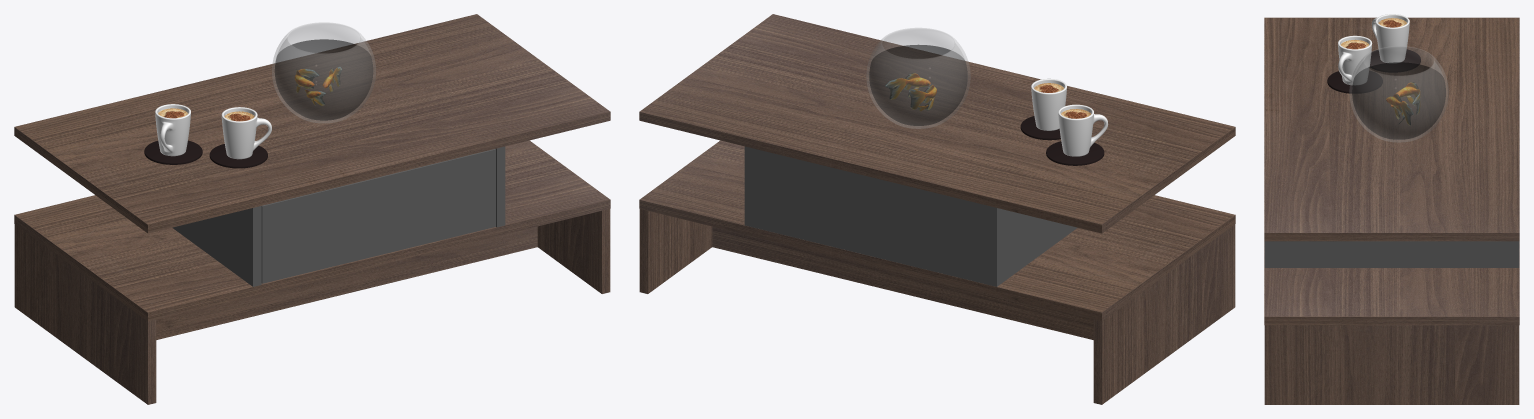
File: center_tables.glb
3 renders of one model, left to right at view 1: azimuth 30°, elevation 25°; view 2: azimuth 150°, elevation 25°; view 3: azimuth 270°, elevation 25°, orthographic. The views are drawn at different scales.
Parts seen in each view (by area): view 1: Box116, Box213, Box118, Box120, Box122, xiadele_BOWL AQUARIAM_xiadele_20 - Default_0, xiadele_BOWL AQUARIAM_xiadele_20 - Dewefault_0, Rectangle1037, Rectangle1042, Box119, Box121, xiadele_TEA CUP_xiadele_16 - Default_0 (+5 smaller); view 2: Box116, Box124, Box118, Box120, Box122, xiadele_BOWL AQUARIAM_xiadele_20 - Default_0, xiadele_BOWL AQUARIAM_xiadele_20 - Dewefault_0, Rectangle1037, Rectangle1042, Box119, Box121, xiadele_TEA CUP001_xiadele_16 - Default_0 (+5 smaller); view 3: Box116, Box119, Box118, xiadele_BOWL AQUARIAM_xiadele_20 - Default_0, Box117, xiadele_BOWL AQUARIAM_xiadele_20 - Dewefault_0, Rectangle1037, Rectangle1042, xiadele_TEA CUP001_xiadele_16 - Default_0, xiadele_TEA CUP_xiadele_16 - Default_0, xiadele_BOWL AQUARIAM_xiadele_22 - Default_0, Circle004 (+1 smaller).
Part boxes in pixels (x1,y1,x2,y2): Box116: [15, 14, 609, 224]; Box213: [261, 149, 495, 283]; Box118: [15, 140, 609, 312]; Box120: [14, 224, 156, 404]; Box122: [156, 226, 537, 339]; xiadele_BOWL AQUARIAM_xiadele_20 - Default_0: [272, 22, 375, 122]; xiadele_BOWL AQUARIAM_xiadele_20 - Dewefault_0: [275, 39, 372, 120]; Rectangle1037: [14, 14, 610, 233]; Rectangle1042: [14, 140, 610, 321]; Box119: [537, 209, 610, 293]; Box121: [172, 206, 261, 286]; xiadele_TEA CUP_xiadele_16 - Default_0: [221, 107, 271, 159]; Box116: [640, 14, 1234, 224]; Box124: [753, 148, 988, 284]; Box118: [640, 140, 1234, 312]; Box120: [1093, 224, 1235, 404]; Box122: [712, 226, 1093, 339]; xiadele_BOWL AQUARIAM_xiadele_20 - Default_0: [866, 28, 970, 128]; xiadele_BOWL AQUARIAM_xiadele_20 - Dewefault_0: [869, 44, 967, 125]; Rectangle1037: [639, 14, 1235, 233]; Rectangle1042: [639, 140, 1235, 321]; Box119: [639, 209, 712, 293]; Box121: [988, 206, 1077, 286]; xiadele_TEA CUP001_xiadele_16 - Default_0: [1058, 104, 1108, 156]; Box116: [1265, 18, 1518, 232]; Box119: [1264, 325, 1519, 404]; Box118: [1265, 268, 1518, 316]; xiadele_BOWL AQUARIAM_xiadele_20 - Default_0: [1349, 46, 1448, 142]; Box117: [1264, 241, 1519, 267]; xiadele_BOWL AQUARIAM_xiadele_20 - Dewefault_0: [1352, 62, 1445, 139]; Rectangle1037: [1264, 17, 1519, 241]; Rectangle1042: [1264, 241, 1519, 325]; xiadele_TEA CUP001_xiadele_16 - Default_0: [1372, 14, 1409, 63]; xiadele_TEA CUP_xiadele_16 - Default_0: [1338, 35, 1372, 85]; xiadele_BOWL AQUARIAM_xiadele_22 - Default_0: [1386, 82, 1420, 125]; Circle004: [1327, 71, 1382, 93].
Bounding box in the file's own units: 1.1 × 0.5805 × 0.551.
8 materials, 3 textured.
